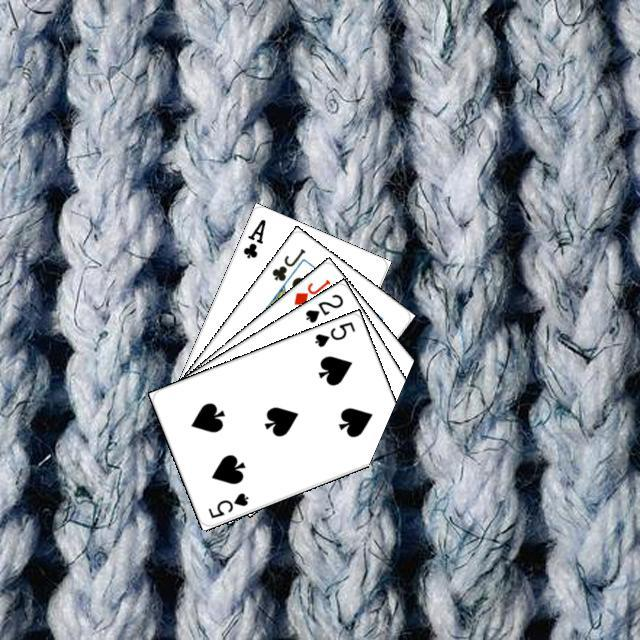2s: (300, 289, 345, 325)
5s: (310, 317, 357, 349), (203, 488, 250, 520)
Ac: (238, 214, 268, 260)
Jc: (267, 243, 307, 283)
Jd: (289, 274, 332, 307)
